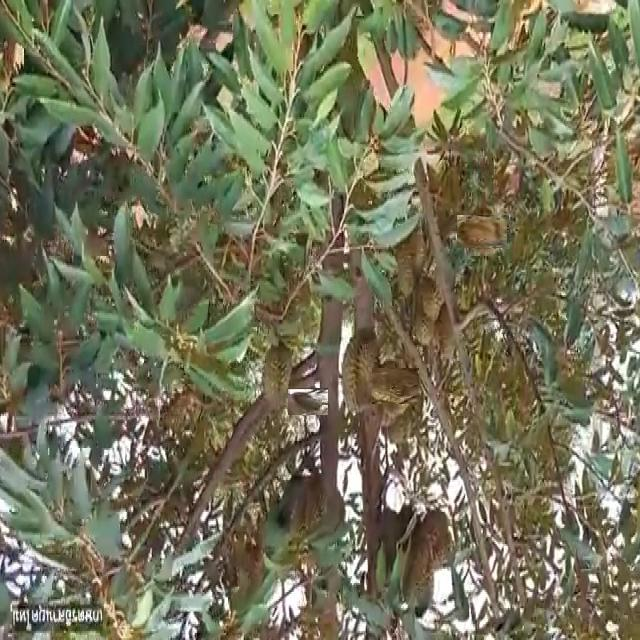durian: (339, 324, 384, 414), (258, 335, 295, 414), (432, 296, 458, 368), (462, 210, 504, 253), (375, 365, 417, 407), (418, 271, 443, 328), (291, 385, 325, 419)
